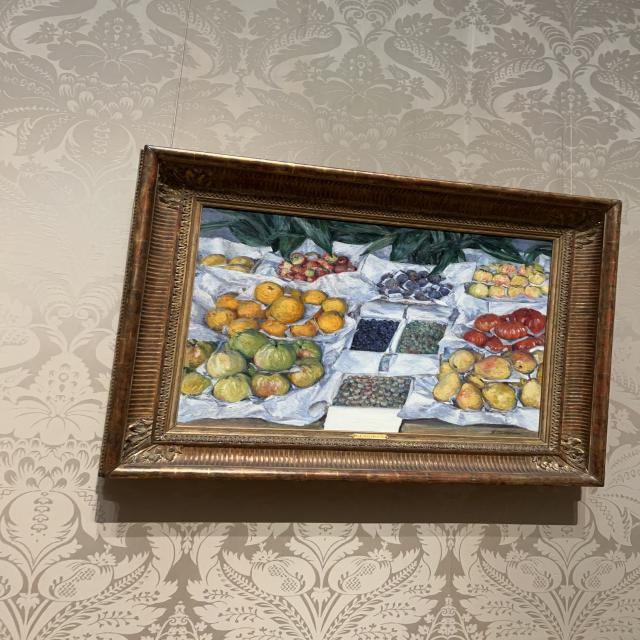fruits: (174, 207, 552, 438)
